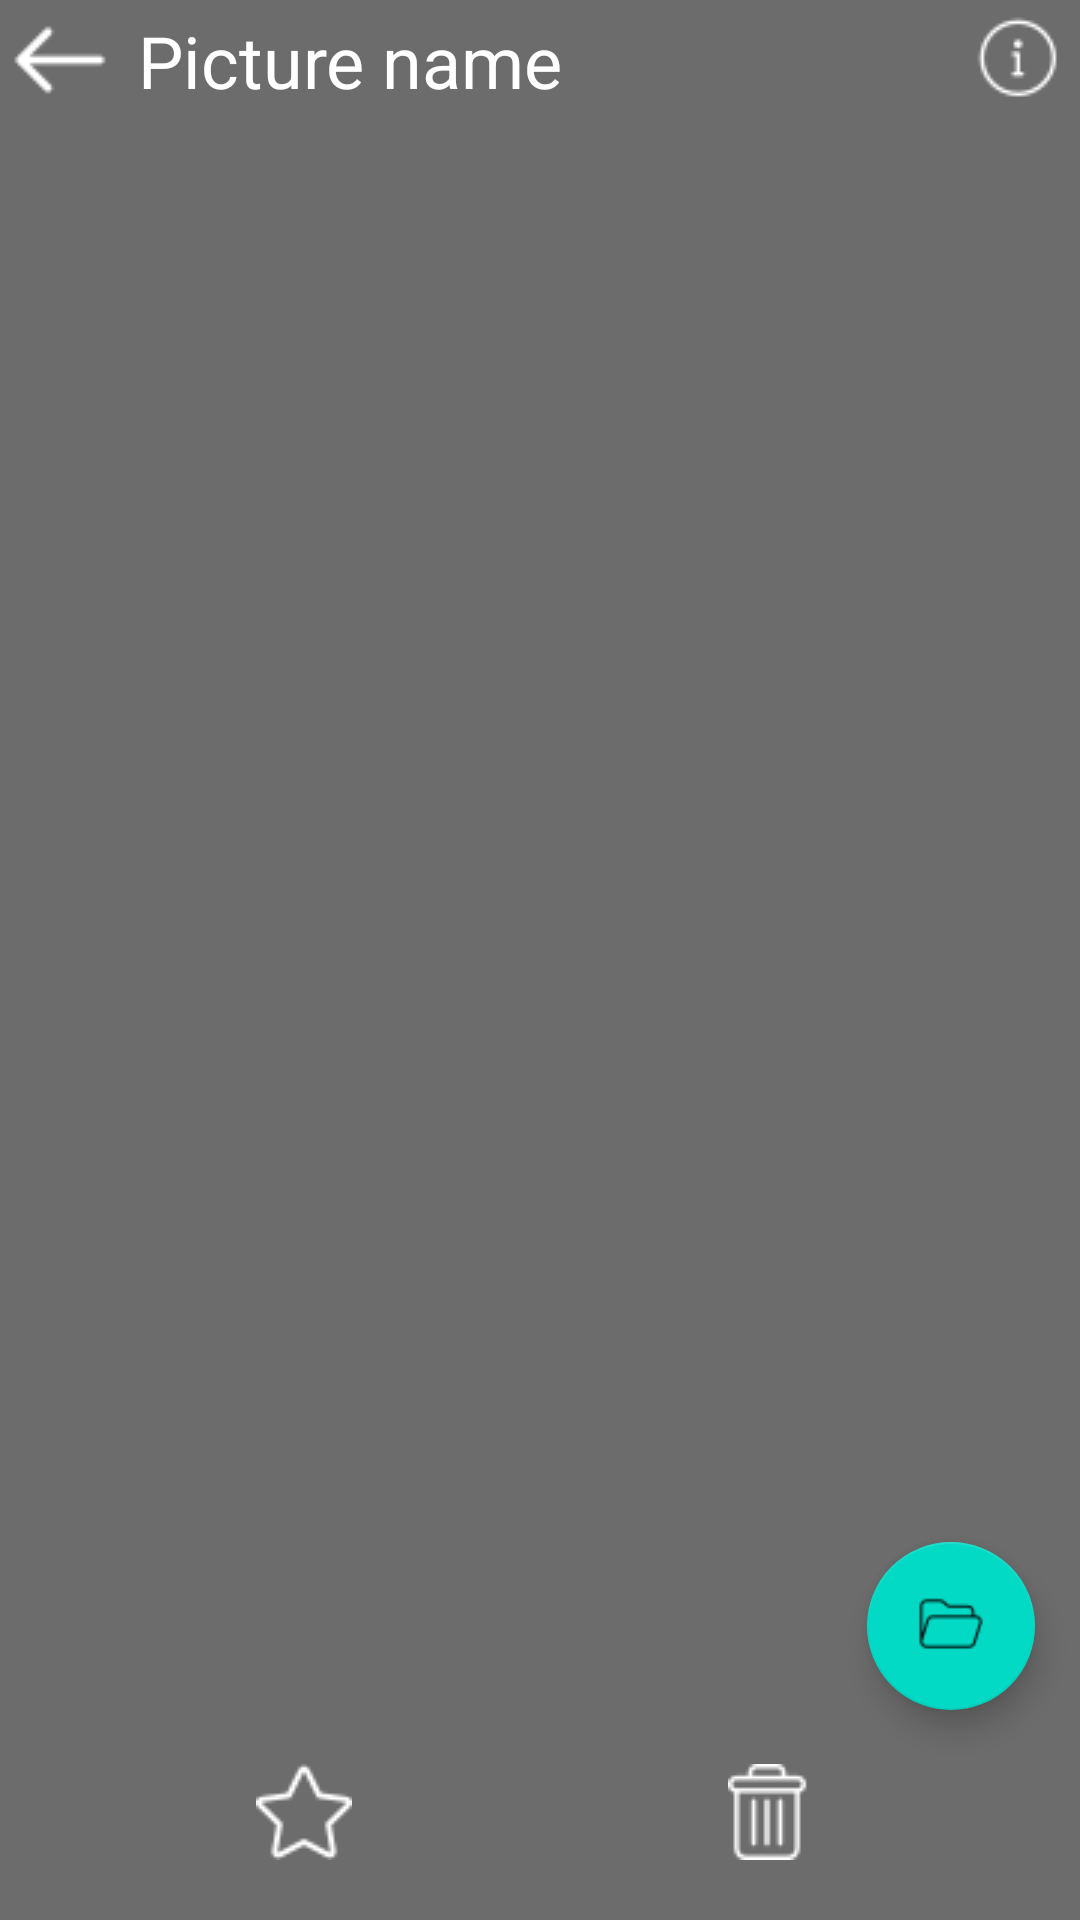

Named icons in this screenshot (1080px×1920px) and their bounding boxes, (x1,y1,x2,y2):
Back: (14,26,106,94)
Create Album: (867,1542,1035,1710)
Delete: (728,1764,807,1860)
Detail: (978,18,1057,97)
favorite: (256,1764,352,1860)
